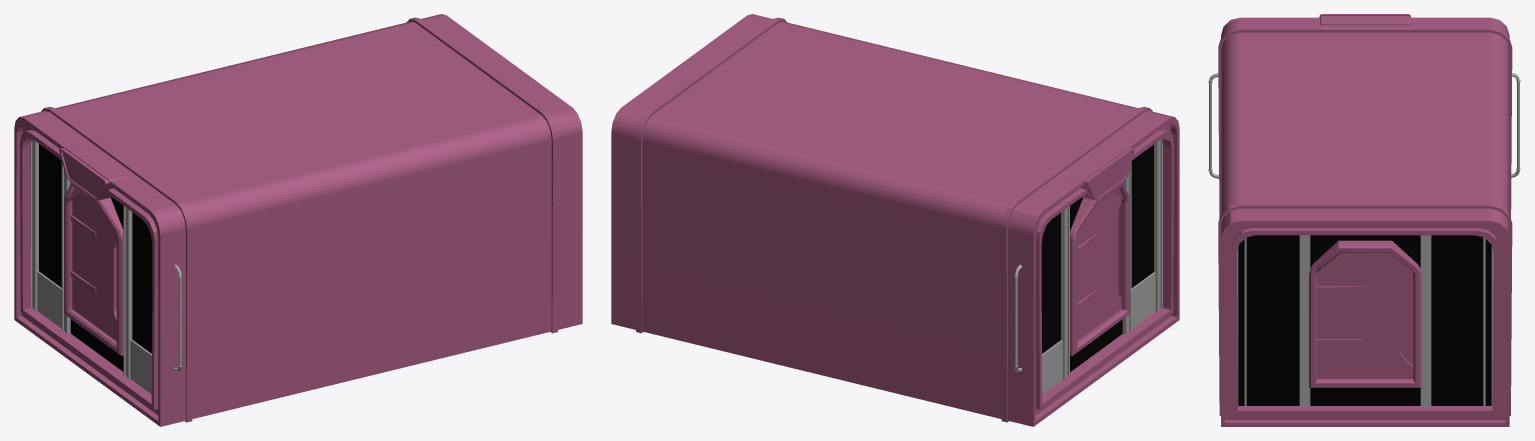
Rendered from Cellule.fbx.
The picture shows the model from 3 angles, left to right: view 1: azimuth 30°, elevation 25°; view 2: azimuth 150°, elevation 25°; view 3: azimuth 270°, elevation 25°; orthographic projection.
Visible parts, largest first — view 1: Cellules; view 2: Cellules; view 3: Cellules.
Part boxes in pixels (<box>): Cellules: <box>14,14,582,426</box>; Cellules: <box>611,14,1179,426</box>; Cellules: <box>1208,14,1520,426</box>.
Bounding box in the file's own units: 10.19 × 4.82 × 6.49.
